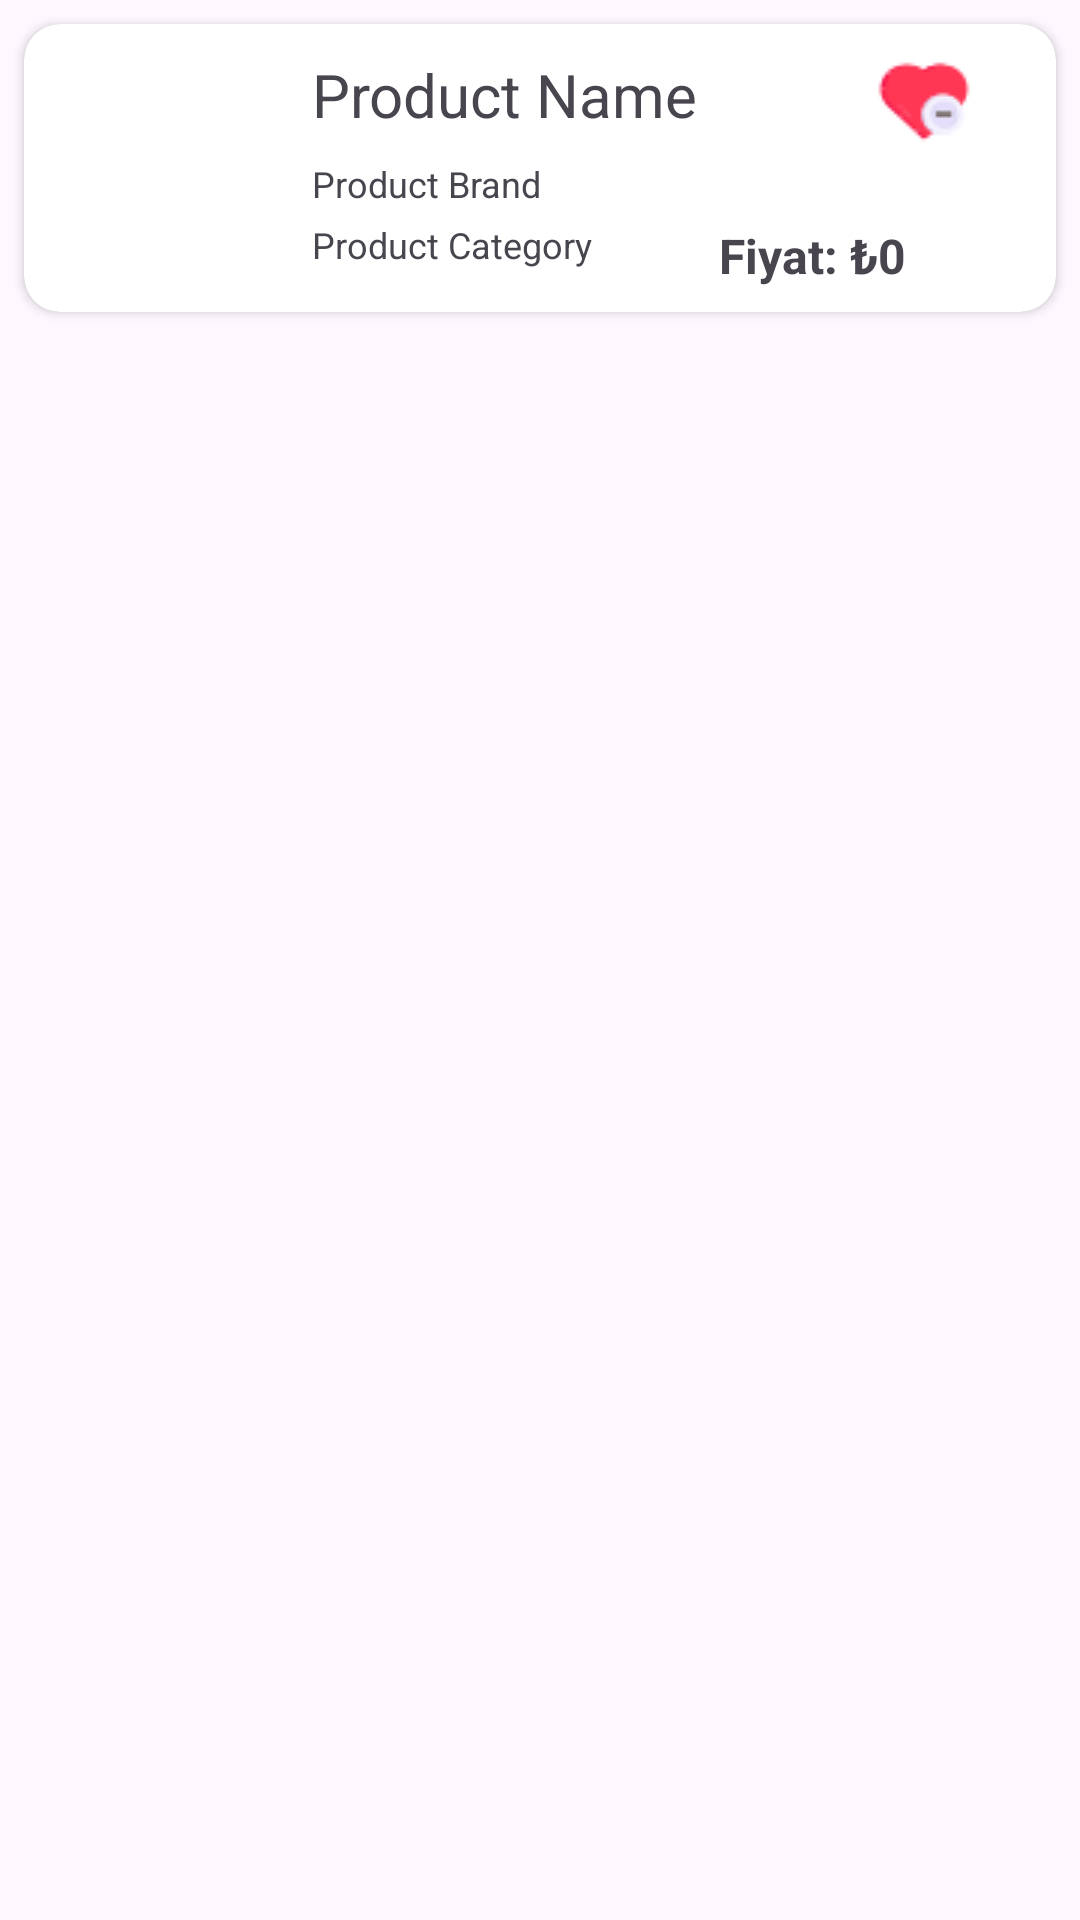

Screen size 1080 x 1920. Icon name, then its center in pixels as (x,y):
remove favorites: (924,101)
